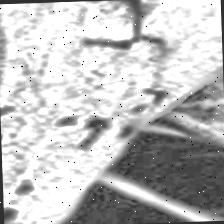Angular Leafspot: (0, 27, 172, 224)
